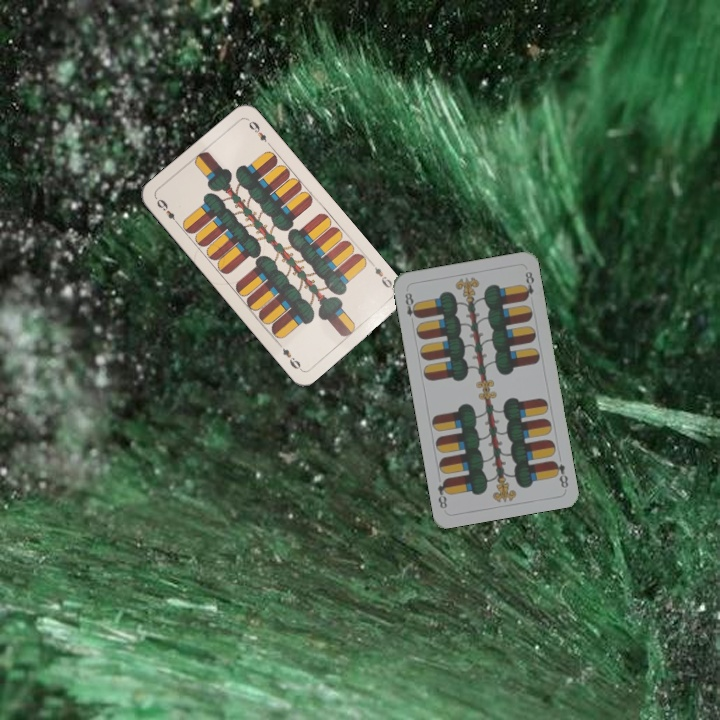E8: (549, 457, 571, 490), (401, 288, 421, 321)
E9: (367, 259, 397, 293), (152, 195, 182, 228)
